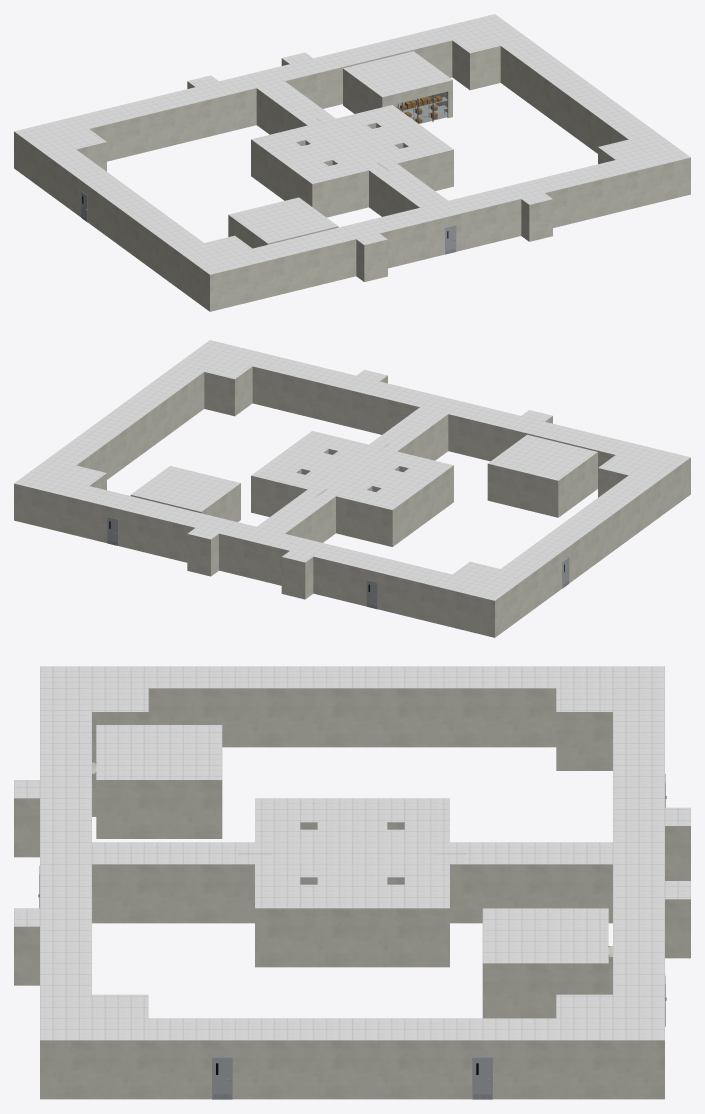
The model's file is corridors_a.glb.
The picture shows the model from 3 angles, top to bottom: view 1: azimuth 30°, elevation 25°; view 2: azimuth 150°, elevation 25°; view 3: azimuth 270°, elevation 25°; orthographic projection. The views are drawn at different scales.
Parts seen in each view (by area): view 1: Wall_Corridor, Ceiling_Tile, Cardboard; view 2: Wall_Corridor, Ceiling_Tile; view 3: Ceiling_Tile, Wall_Corridor, DoorLeaf_checkpoint_2, DoorLeaf_hidden_entry.
Part boxes in pixels (x1,y1,x2,y2): Wall_Corridor: (14,40,690,311); Ceiling_Tile: (14,14,690,274); Cardboard: (395,96,442,123); Wall_Corridor: (14,366,690,637); Ceiling_Tile: (14,340,690,600); Ceiling_Tile: (14,666,690,1040); Wall_Corridor: (14,688,690,1099); DoorLeaf_checkpoint_2: (472,1057,492,1099); DoorLeaf_hidden_entry: (212,1057,232,1099).
Bounding box in the file's own units: 40.95 × 3 × 31.2.
27 materials, 12 textured.
